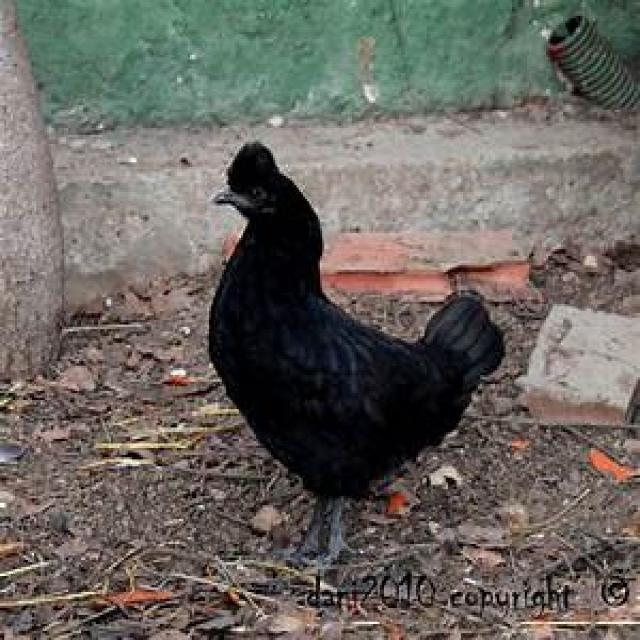hen: (209, 142, 503, 507)
